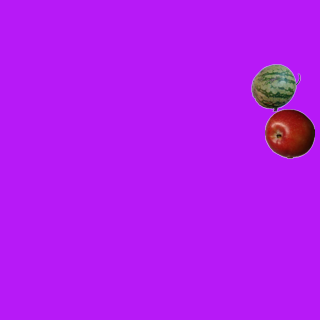Apple Braeburn: (264, 108, 314, 158)
Watermelon: (250, 62, 300, 112)
